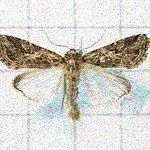Spodoptera litura: (0, 28, 149, 120)
